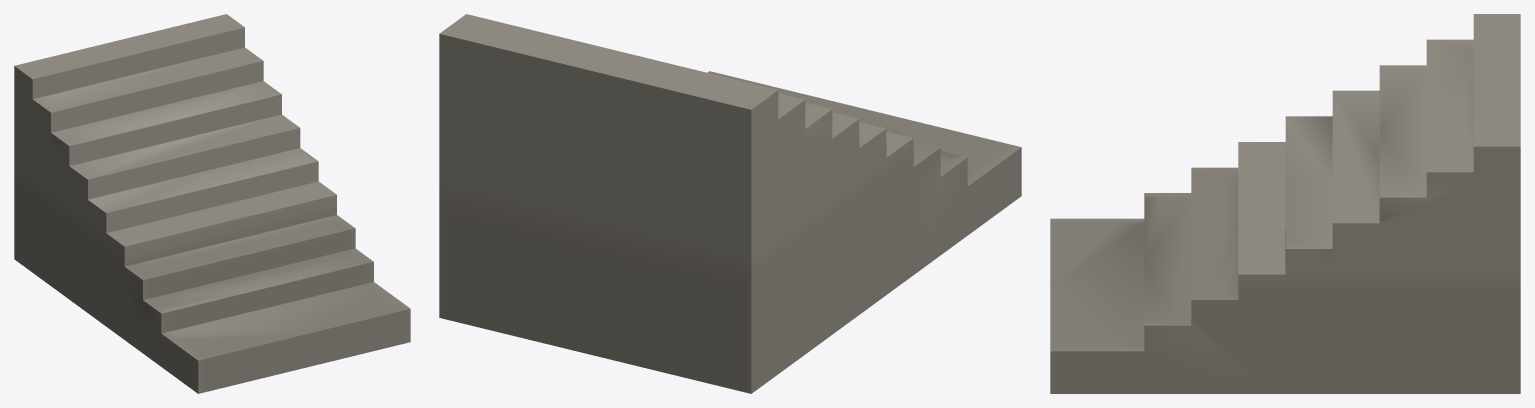
Rendered from bac_xuong_cat.mid.glb.
The picture shows the model from 3 angles, left to right: view 1: azimuth 30°, elevation 25°; view 2: azimuth 150°, elevation 25°; view 3: azimuth 270°, elevation 25°; orthographic projection. The views are drawn at different scales.
Parts seen in each view (by area): view 1: drawing; view 2: drawing; view 3: drawing.
Part boxes in pixels (x1,y1,x2,y2): drawing: [14, 14, 410, 393]; drawing: [439, 14, 1021, 393]; drawing: [1050, 14, 1520, 393].
Size of the model in its own units: 2 by 1.74 by 3.
1 material, 1 textured.
